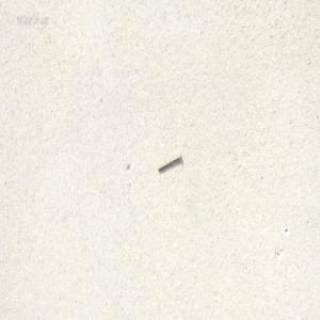Bolttrack_idkeyframe: (155, 151, 180, 172)
